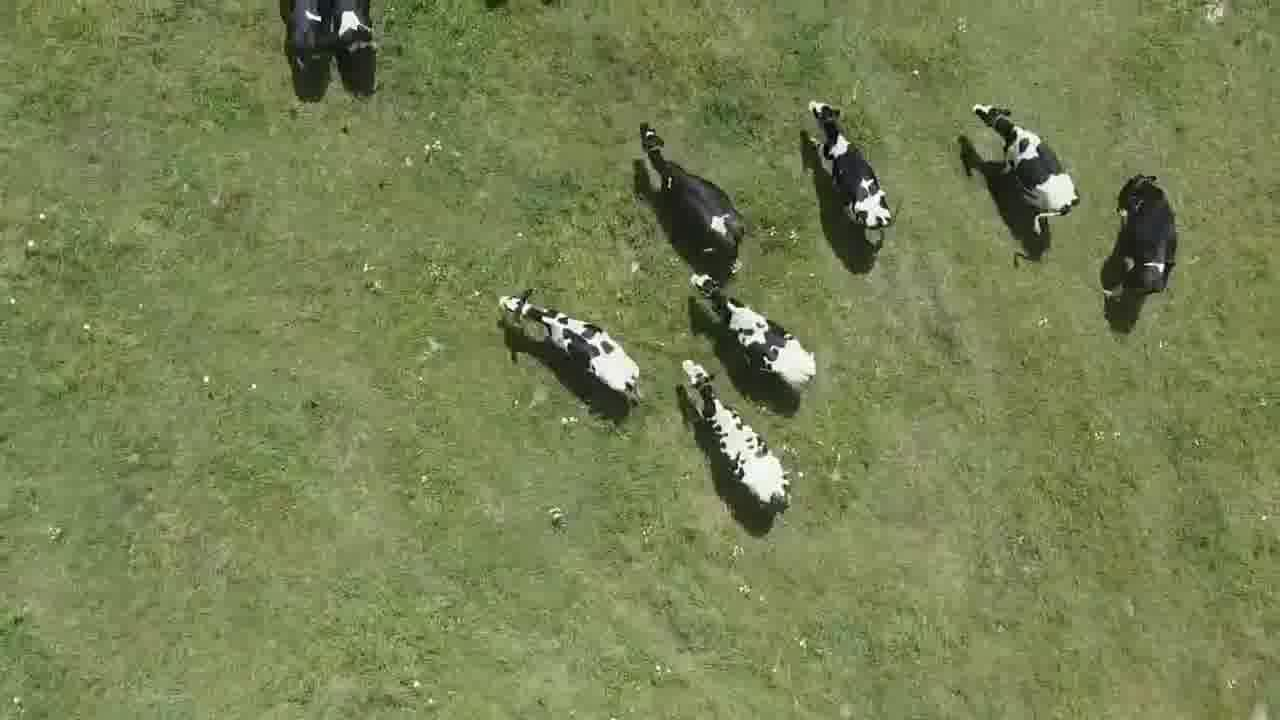cow: (679, 355, 796, 517), (636, 116, 748, 272), (498, 292, 648, 408), (688, 272, 821, 395), (969, 99, 1083, 234), (803, 95, 897, 235), (1108, 169, 1181, 300), (277, 0, 331, 75), (331, 0, 378, 65)
